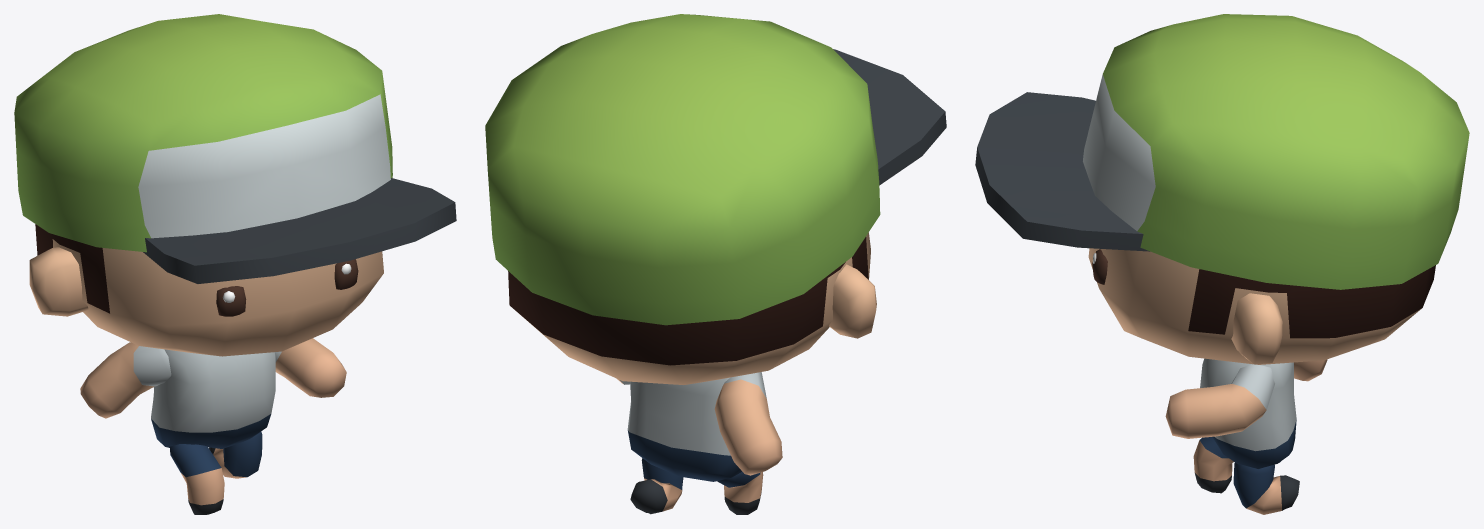
File: run_0012.obj
The picture shows the model from 3 angles, left to right: view 1: azimuth 30°, elevation 25°; view 2: azimuth 150°, elevation 25°; view 3: azimuth 270°, elevation 25°; orthographic projection. The views are drawn at different scales.
Visible parts, largest first — view 1: Object_41, Object_42, Object_36, Object_44, Object_38; view 2: Object_41, Object_36, Object_44, Object_42; view 3: Object_41, Object_36, Object_42, Object_44.
Part boxes in pixels (x1,y1,x2,y2): Object_41: [14, 14, 392, 252]; Object_42: [138, 94, 456, 283]; Object_36: [29, 224, 383, 356]; Object_44: [80, 338, 346, 514]; Object_38: [216, 259, 358, 316]; Object_41: [485, 14, 880, 325]; Object_36: [508, 232, 876, 384]; Object_44: [616, 372, 782, 514]; Object_42: [833, 49, 946, 185]; Object_41: [1103, 14, 1469, 289]; Object_36: [1088, 248, 1435, 364]; Object_42: [975, 74, 1155, 251]; Object_44: [1165, 358, 1327, 514].
Size of the model in its own units: 0.9691 by 1.18 by 1.15.
